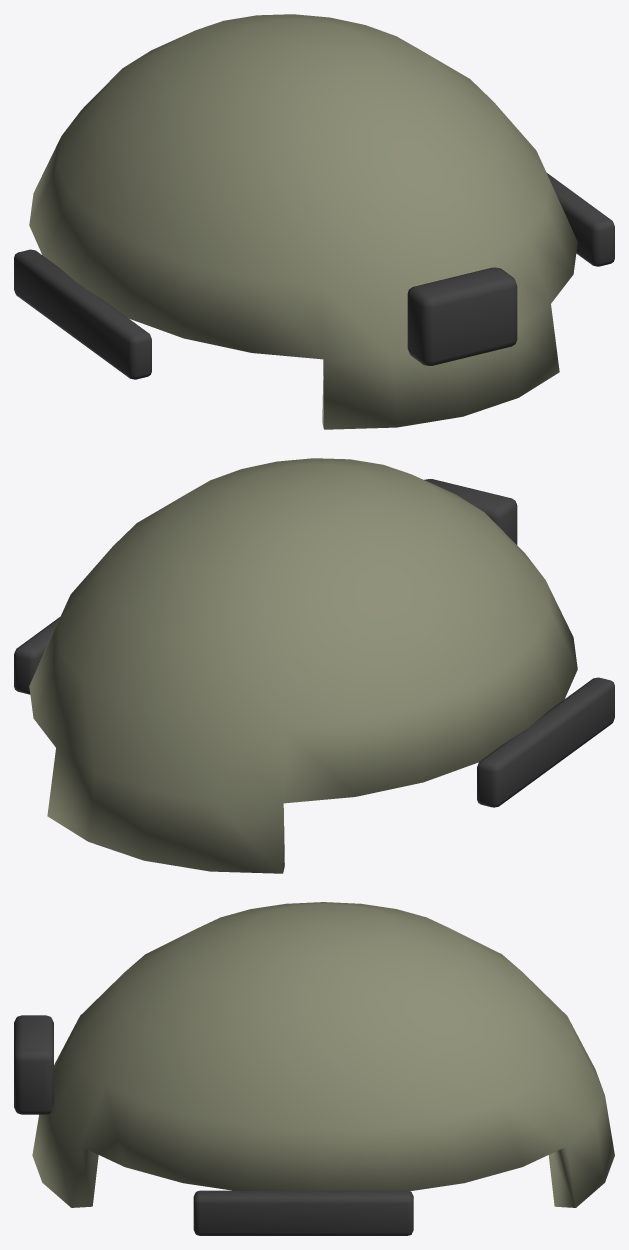
The model's file is Helmet.fbx.
The picture shows the model from 3 angles, top to bottom: view 1: azimuth 30°, elevation 25°; view 2: azimuth 150°, elevation 25°; view 3: azimuth 270°, elevation 25°; orthographic projection. The views are drawn at different scales.
Visible parts, largest first — view 1: Helmet, Helmet_Hardware; view 2: Helmet, Helmet_Hardware; view 3: Helmet, Helmet_Hardware.
Part boxes in pixels (x1,y1,x2,y2): Helmet: (29, 14, 577, 429); Helmet_Hardware: (14, 173, 614, 379); Helmet: (29, 458, 577, 873); Helmet_Hardware: (14, 479, 614, 807); Helmet: (32, 902, 614, 1207); Helmet_Hardware: (14, 1015, 413, 1235).
Bounding box in the file's own units: 0.256 × 0.13 × 0.3008.
